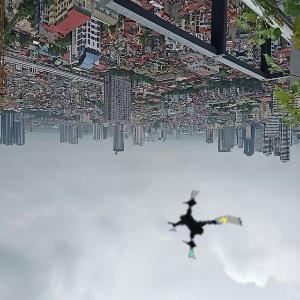drone: (166, 188, 244, 266)
